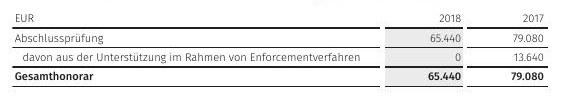table: (0, 0, 564, 97)
